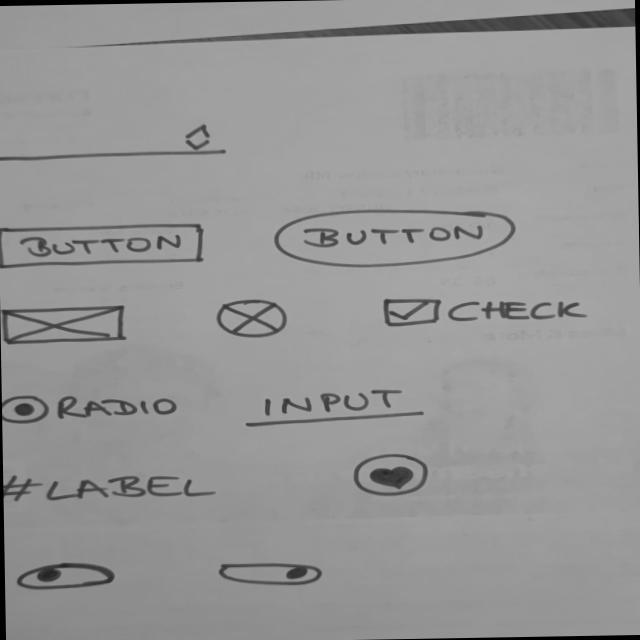button: (267, 206, 526, 272), (1, 219, 210, 271)
checkbox: (368, 293, 593, 334)
icon-button: (350, 453, 435, 499)
image: (1, 303, 130, 346), (207, 295, 300, 342)
input: (241, 384, 434, 431)
label: (4, 467, 222, 509)
number-input: (1, 119, 231, 164)
radio: (3, 388, 184, 428)
toggle: (214, 558, 329, 590), (14, 561, 123, 592)
